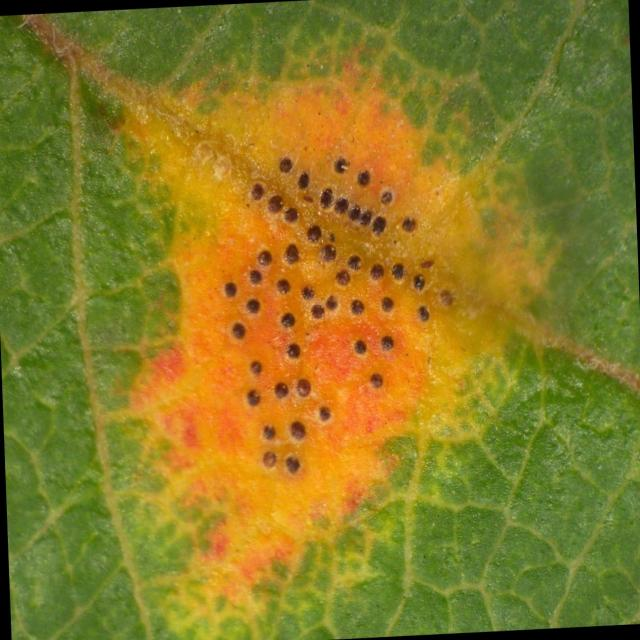Gymnosporangium_Rusts: (120, 64, 479, 600)
